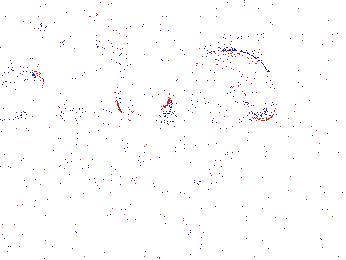moon jellyfish: (195, 49, 276, 122), (52, 106, 138, 172), (111, 41, 203, 96), (177, 95, 227, 174), (1, 67, 45, 122)
